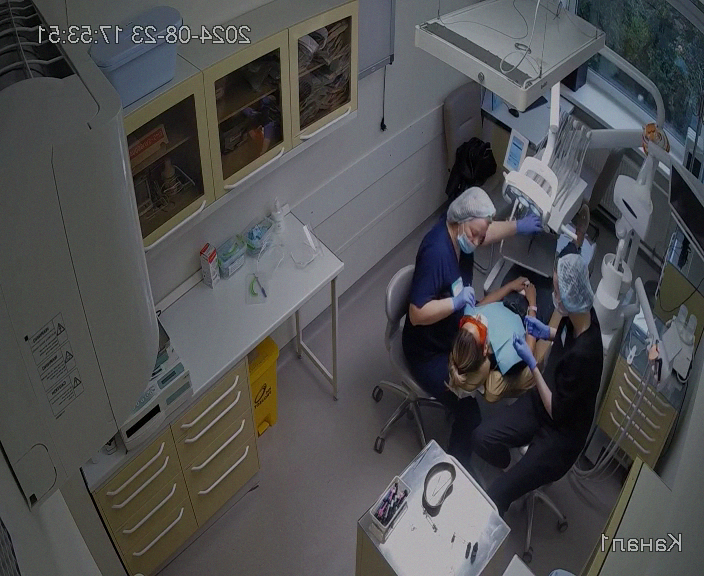Patient: (440, 191, 606, 399)
